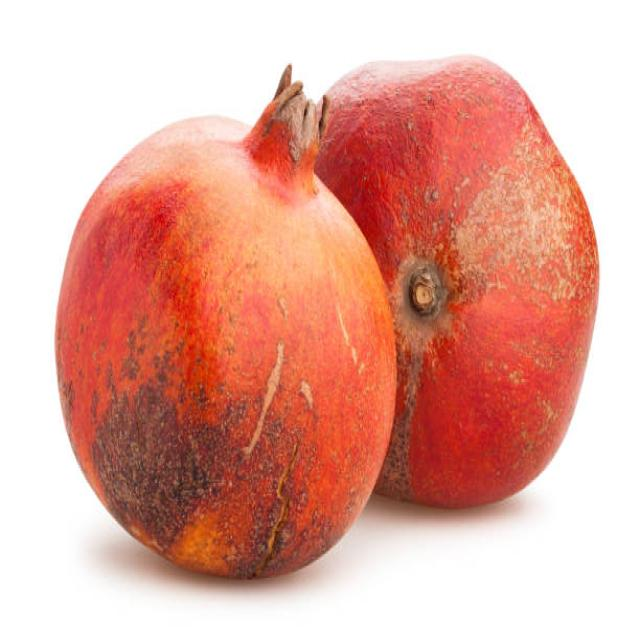overripe: (50, 64, 400, 583), (320, 49, 605, 511)
